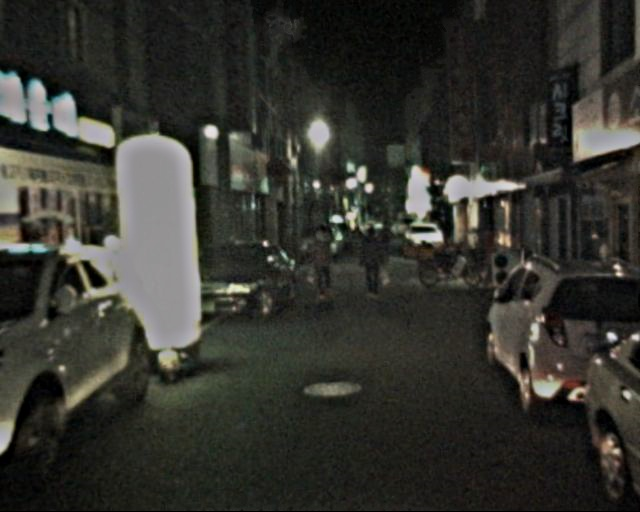person: (304, 225, 336, 303), (355, 227, 386, 303)
